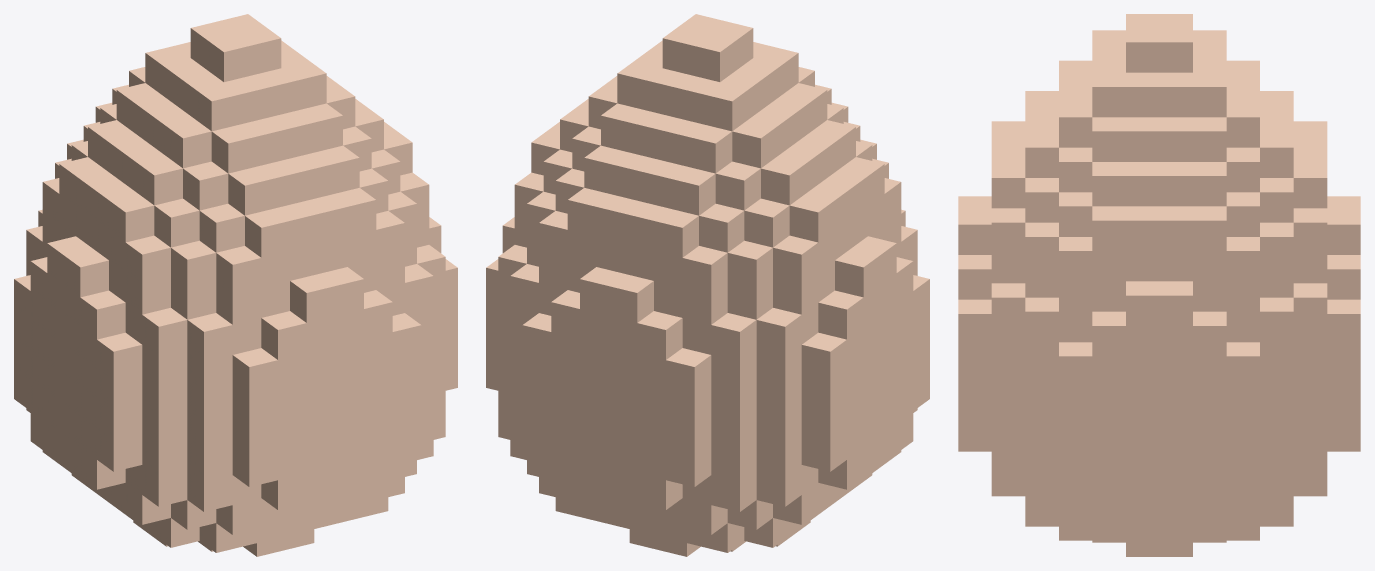
File: Normal_Egg.glb
3 renders of one model, left to right at view 1: azimuth 30°, elevation 25°; view 2: azimuth 150°, elevation 25°; view 3: azimuth 270°, elevation 25°, orthographic.
Parts seen in each view (by area): view 1: Cube copy copy copy copy copy copy copy copy copy copy copy  (×68), Cube copy copy copy (×11), Cube copy copy copy copy copy copy (×11), Cube copy copy copy copy (×8), Cube copy copy copy copy copy (×7), Cube copy copy (×8), Cube copy copy copy copy copy copy copy copy (×7), Cube copy copy copy copy copy copy copy (×7), Cube copy copy copy copy copy copy copy copy copy (×5), Cube copy (×4), Cube copy copy copy copy copy copy copy copy copy copy copy (×3), Cube copy copy copy copy copy copy copy copy copy copy (+1 smaller); view 2: Cube copy copy copy copy copy copy copy copy copy copy copy  (×68), Cube copy copy copy copy copy (×9), Cube copy copy copy copy copy copy copy (×9), Cube copy copy copy copy (×8), Cube copy copy copy (×7), Cube copy copy copy copy copy copy copy copy (×7), Cube copy copy (×7), Cube copy copy copy copy copy copy (×7), Cube copy copy copy copy copy copy copy copy copy (×7), Cube copy copy copy copy copy copy copy copy copy copy (×5), Cube copy copy copy copy copy copy copy copy copy copy copy (×3), Cube copy (×3) (+1 smaller); view 3: Cube copy copy copy copy copy copy copy copy copy copy copy  (×96), Cube copy copy copy copy copy copy (×11), Cube copy copy copy copy (×9), Cube copy copy copy copy copy copy copy (×10), Cube copy copy copy (×10), Cube copy copy copy copy copy (×8), Cube copy copy (×6), Cube copy copy copy copy copy copy copy copy (×7), Cube copy copy copy copy copy copy copy copy copy (×6), Cube copy copy copy copy copy copy copy copy copy copy (×3), Cube copy copy copy copy copy copy copy copy copy copy copy (×3), Cube copy.
Part boxes in pixels (<box>): Cube copy copy copy copy copy copy copy copy copy copy copy  (×68): <box>26,21,445,552</box>; Cube copy copy copy (×11): <box>63,248,392,502</box>; Cube copy copy copy copy copy copy (×11): <box>30,264,433,486</box>; Cube copy copy copy copy (×8): <box>30,267,421,496</box>; Cube copy copy copy copy copy (×7): <box>30,308,421,456</box>; Cube copy copy (×8): <box>14,236,392,510</box>; Cube copy copy copy copy copy copy copy copy (×7): <box>63,260,392,506</box>; Cube copy copy copy copy copy copy copy (×7): <box>63,369,421,479</box>; Cube copy copy copy copy copy copy copy copy copy (×5): <box>125,230,433,465</box>; Cube copy (×4): <box>30,290,306,452</box>; Cube copy copy copy copy copy copy copy copy copy copy copy (×3): <box>42,178,347,287</box>; Cube copy copy copy copy copy copy copy copy copy copy: <box>376,211,404,259</box>; Cube copy copy copy copy copy copy copy copy copy copy copy  (×68): <box>510,21,884,552</box>; Cube copy copy copy copy copy (×9): <box>522,226,917,502</box>; Cube copy copy copy copy copy copy copy (×9): <box>522,313,913,456</box>; Cube copy copy copy copy (×8): <box>522,267,846,510</box>; Cube copy copy copy (×7): <box>551,236,929,489</box>; Cube copy copy copy copy copy copy copy copy (×7): <box>551,318,756,486</box>; Cube copy copy (×7): <box>551,248,913,476</box>; Cube copy copy copy copy copy copy (×7): <box>498,245,913,426</box>; Cube copy copy copy copy copy copy copy copy copy (×7): <box>580,178,901,504</box>; Cube copy copy copy copy copy copy copy copy copy copy (×5): <box>514,172,756,511</box>; Cube copy copy copy copy copy copy copy copy copy copy copy (×3): <box>527,191,818,294</box>; Cube copy (×3): <box>818,257,913,489</box>; Cube copy copy copy copy copy copy copy copy copy copy copy  (×96): <box>991,14,1327,556</box>; Cube copy copy copy copy copy copy (×11): <box>958,283,1360,477</box>; Cube copy copy copy copy (×9): <box>958,210,1360,508</box>; Cube copy copy copy copy copy copy copy (×10): <box>958,311,1360,477</box>; Cube copy copy copy (×10): <box>958,196,1360,508</box>; Cube copy copy copy copy copy (×8): <box>958,196,1360,447</box>; Cube copy copy (×6): <box>958,255,1360,508</box>; Cube copy copy copy copy copy copy copy copy (×7): <box>991,281,1293,493</box>; Cube copy copy copy copy copy copy copy copy copy (×6): <box>991,251,1293,493</box>; Cube copy copy copy copy copy copy copy copy copy copy (×3): <box>991,208,1293,297</box>; Cube copy copy copy copy copy copy copy copy copy copy copy (×3): <box>1092,222,1293,281</box>; Cube copy: <box>1092,311,1125,356</box>.
Size of the model in its own units: 1.2 by 1.6 by 1.2.
